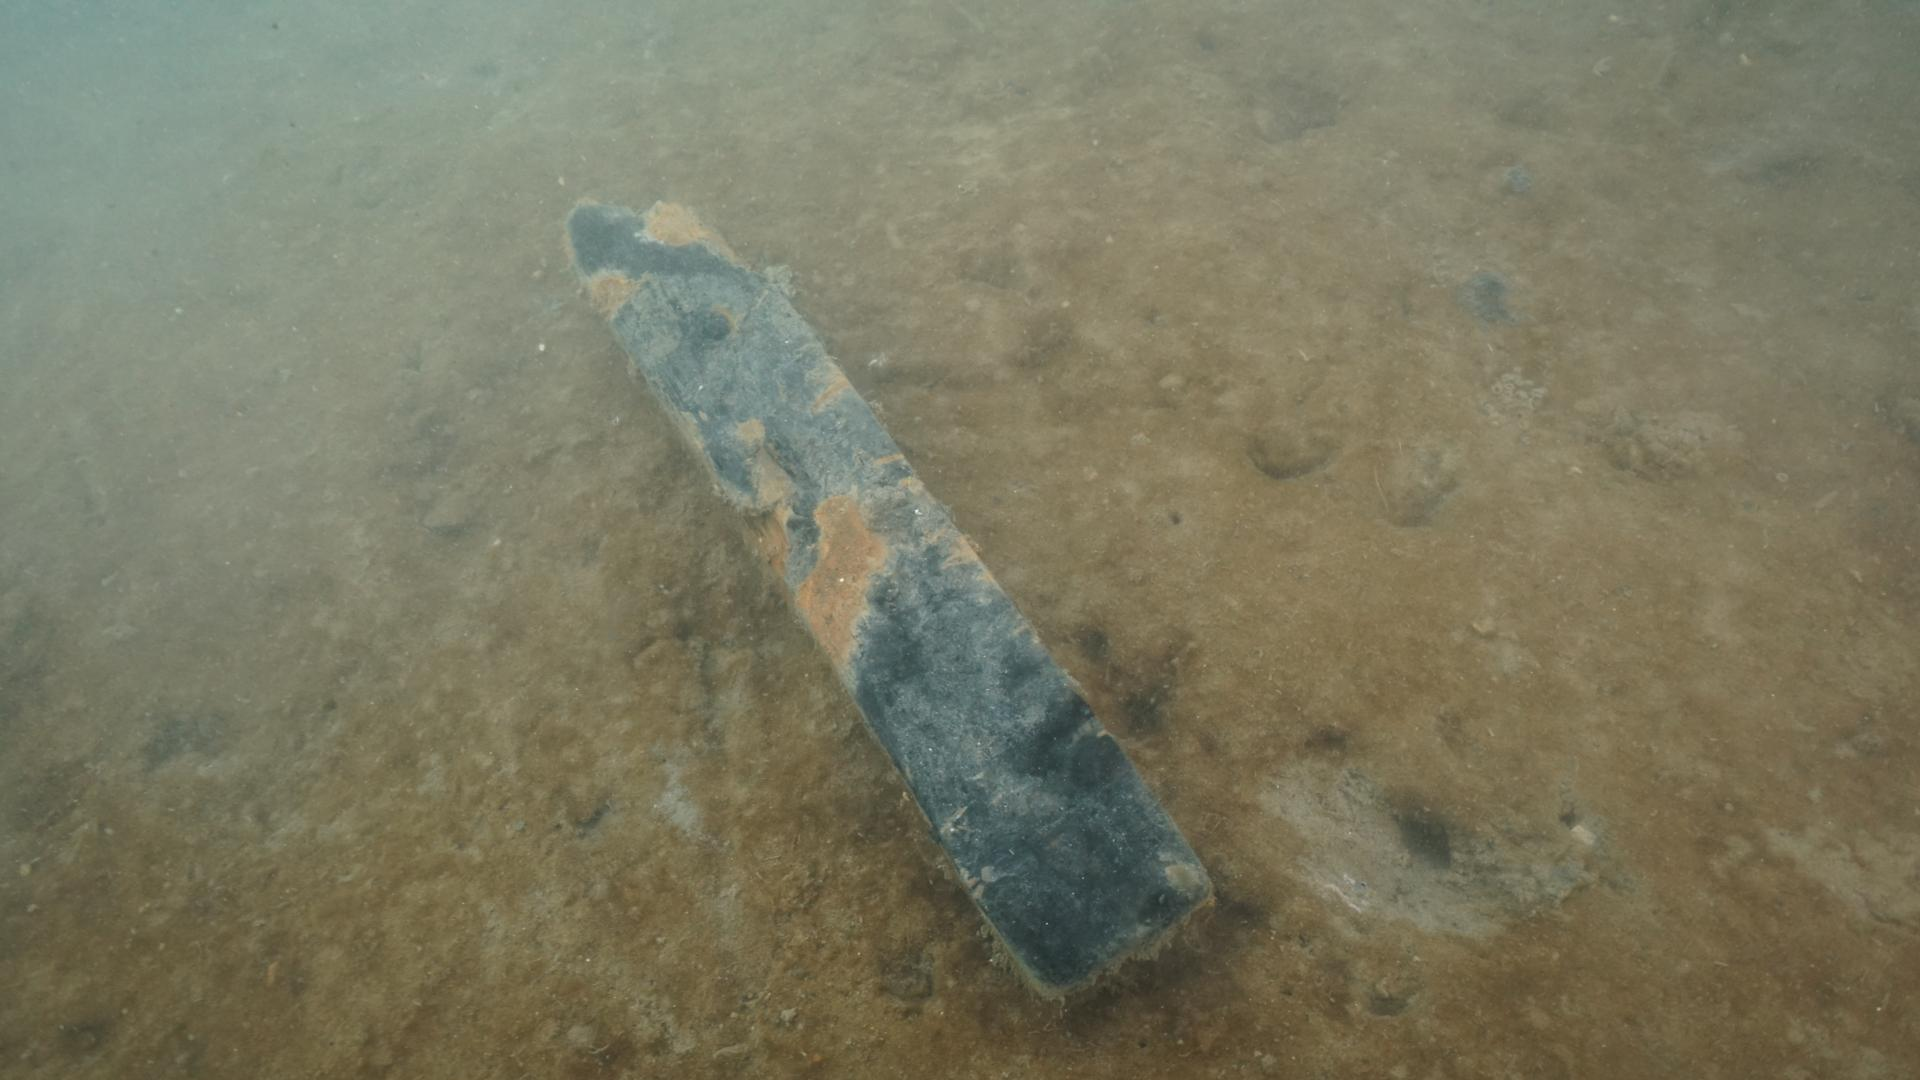wood: (554, 182, 1225, 1029)
